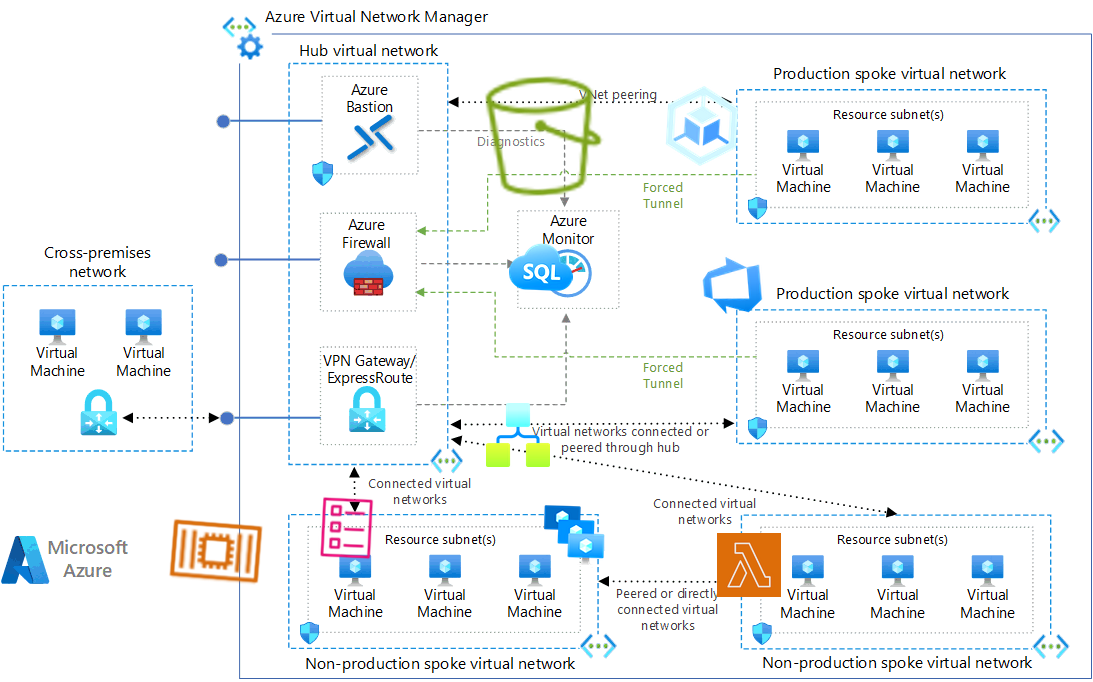aws_cloudformation_template: (312, 494, 380, 562)
aws_elastic_container_service_container_2: (164, 499, 268, 603)
aws_lambda: (716, 532, 782, 598)
aws_simple_storage_service_bucket: (476, 68, 612, 204)
azure_devops: (697, 250, 767, 320)
azure_logic_apps: (485, 402, 551, 468)
azure_sql: (507, 234, 575, 302)
azure_vm_scale_sets: (539, 501, 607, 569)
gcp_google_kubernetes_engine: (651, 75, 753, 177)
